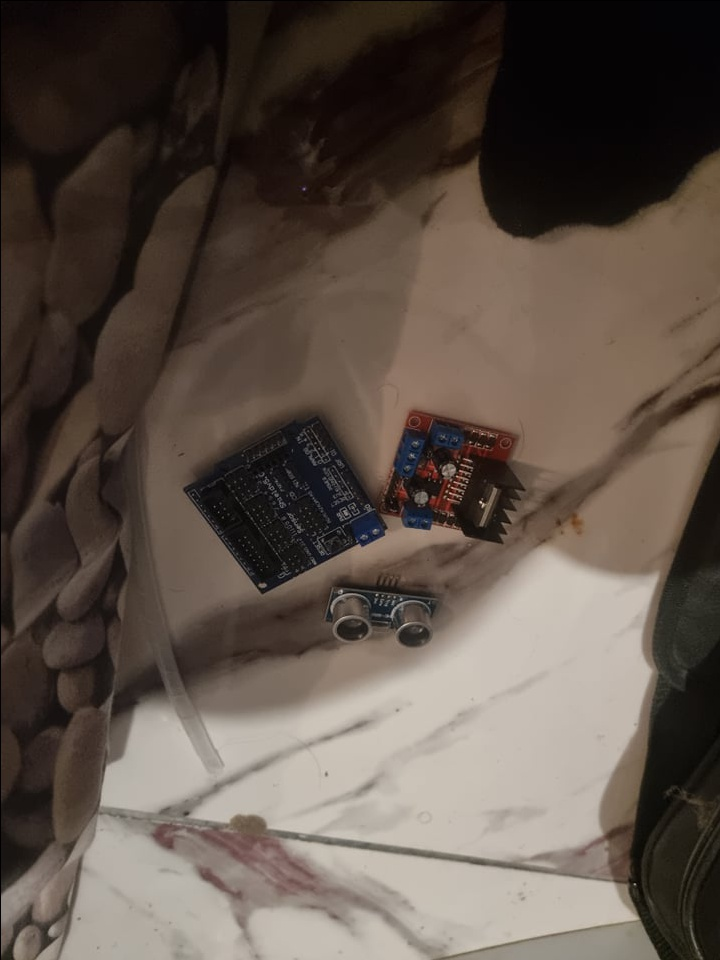5V EXPANSION: (181, 414, 387, 595)
MOTOR: (379, 409, 524, 545)
SENSOR: (322, 583, 435, 647)
